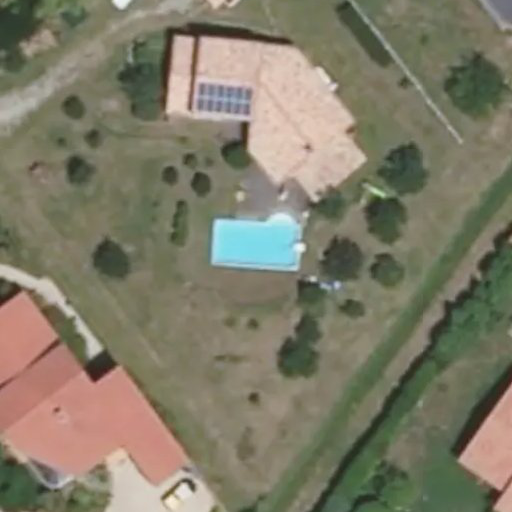pool: (206, 216, 308, 275)
